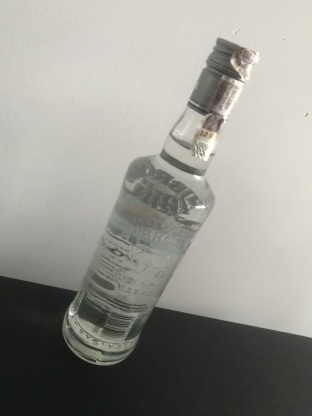nakretka: (185, 35, 260, 124)
